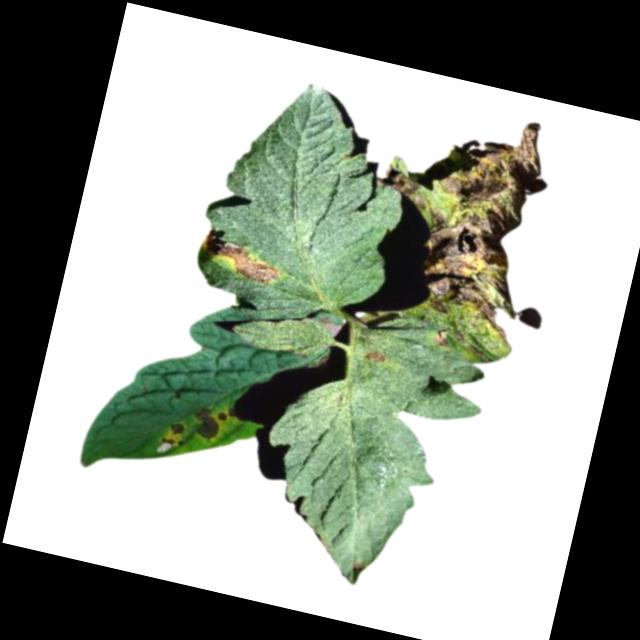Early_blight: (340, 89, 559, 366), (196, 225, 286, 285), (191, 401, 235, 442), (160, 415, 190, 451), (362, 344, 390, 366)
